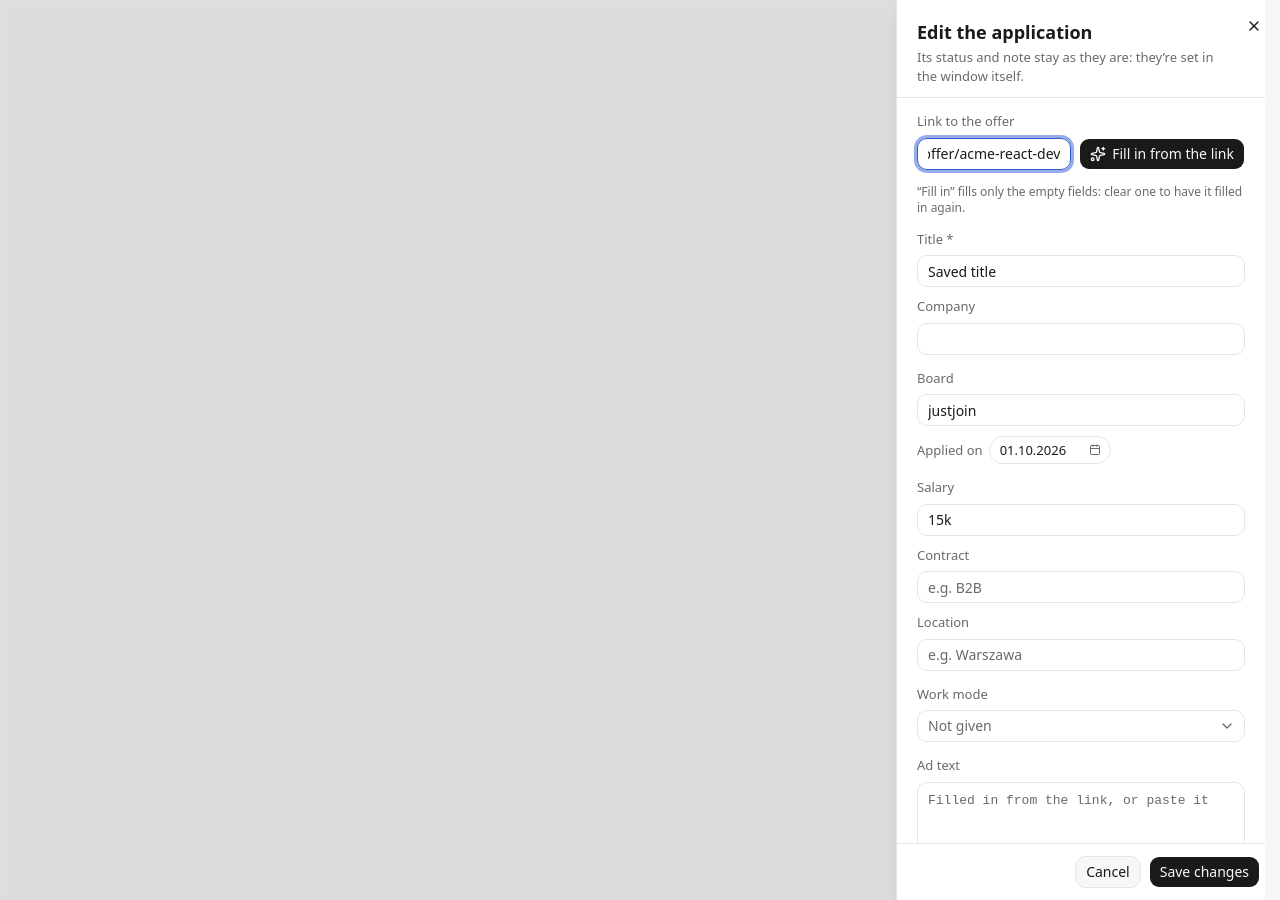
Test case: ApplicationForm › editing, "Fill in" fills only the empty fields
Click the button "Fill in from the link".
click(1162, 154)  # box [1079,138,1245,170]
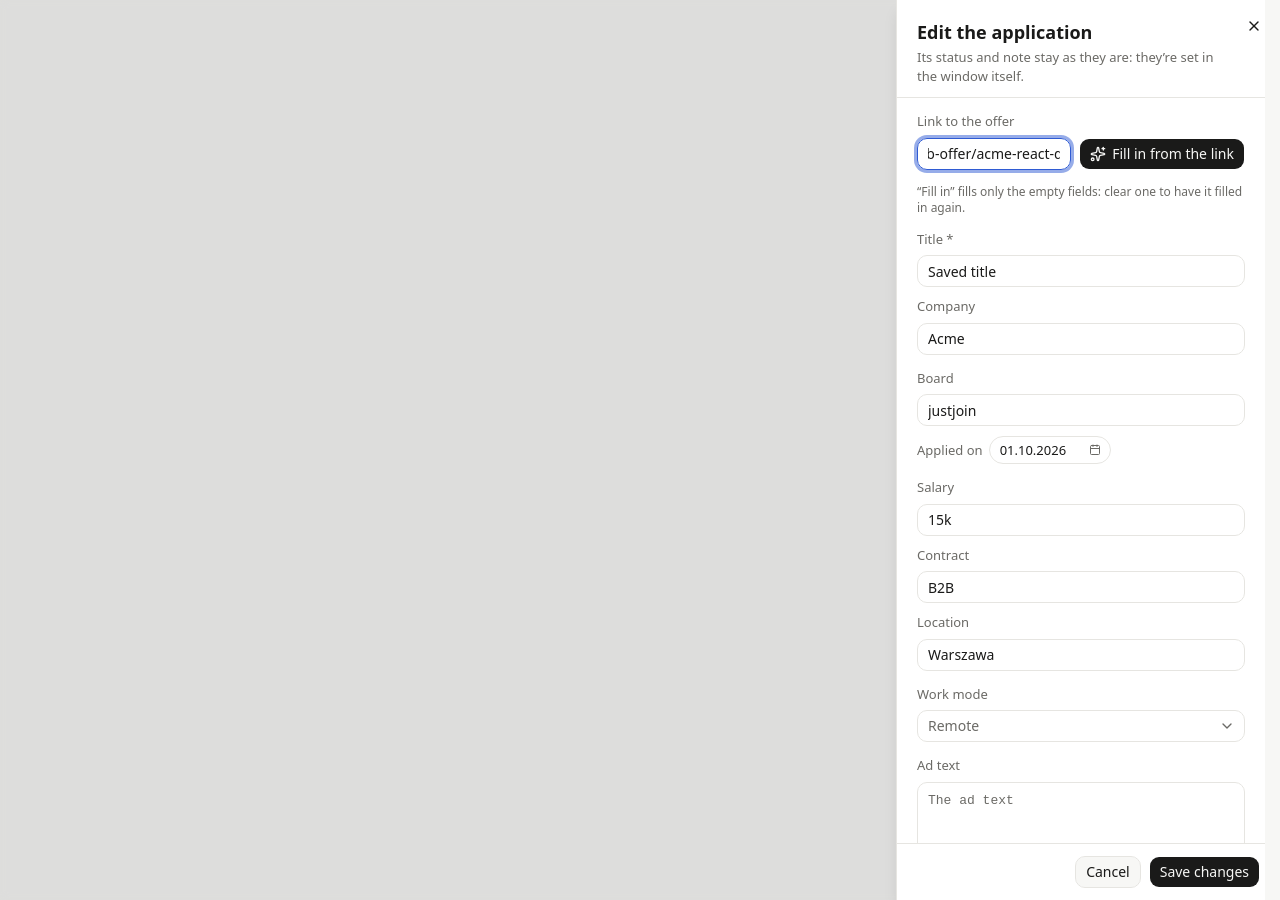
Expected: the field labelled "Title *" holds "Saved title", [917,255,1245,287]
Expected: the field labelled "Company" holds "Acme", [917,323,1245,355]
Expected: the field labelled "Location" holds "Warszawa", [917,639,1245,671]
